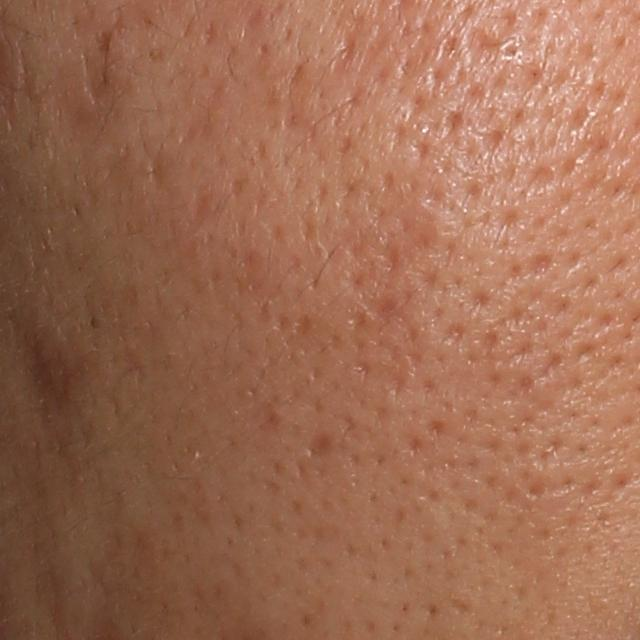atrophic_scar: (9, 322, 72, 417), (77, 29, 112, 105), (460, 24, 506, 75), (335, 14, 364, 75), (301, 426, 341, 464), (141, 146, 170, 191)
